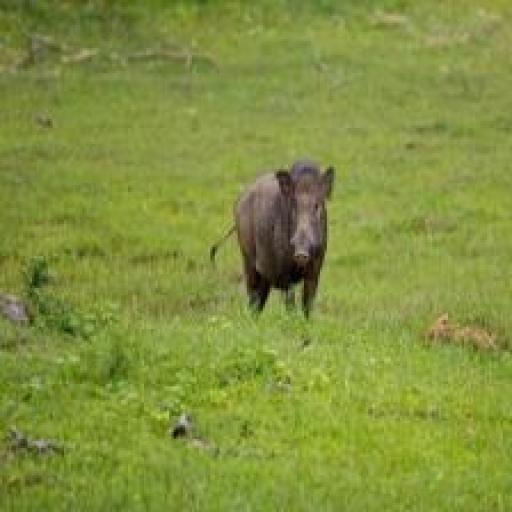Pig: (208, 153, 342, 321)
